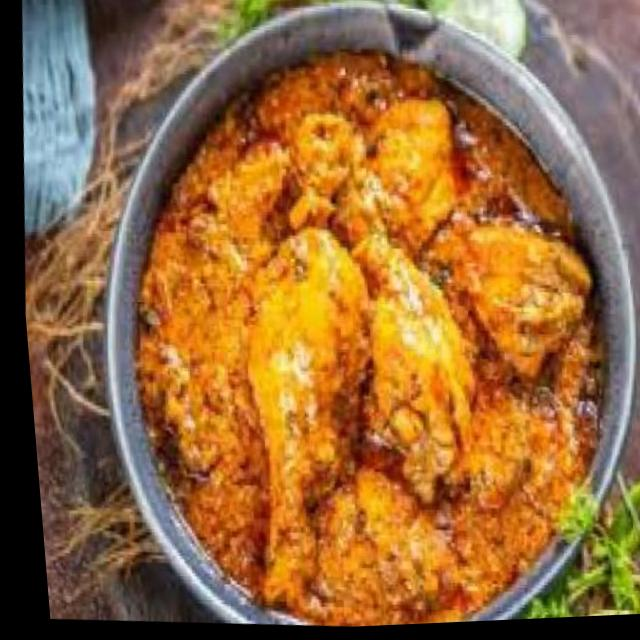CHICKEN CURRY: (133, 45, 603, 625)
